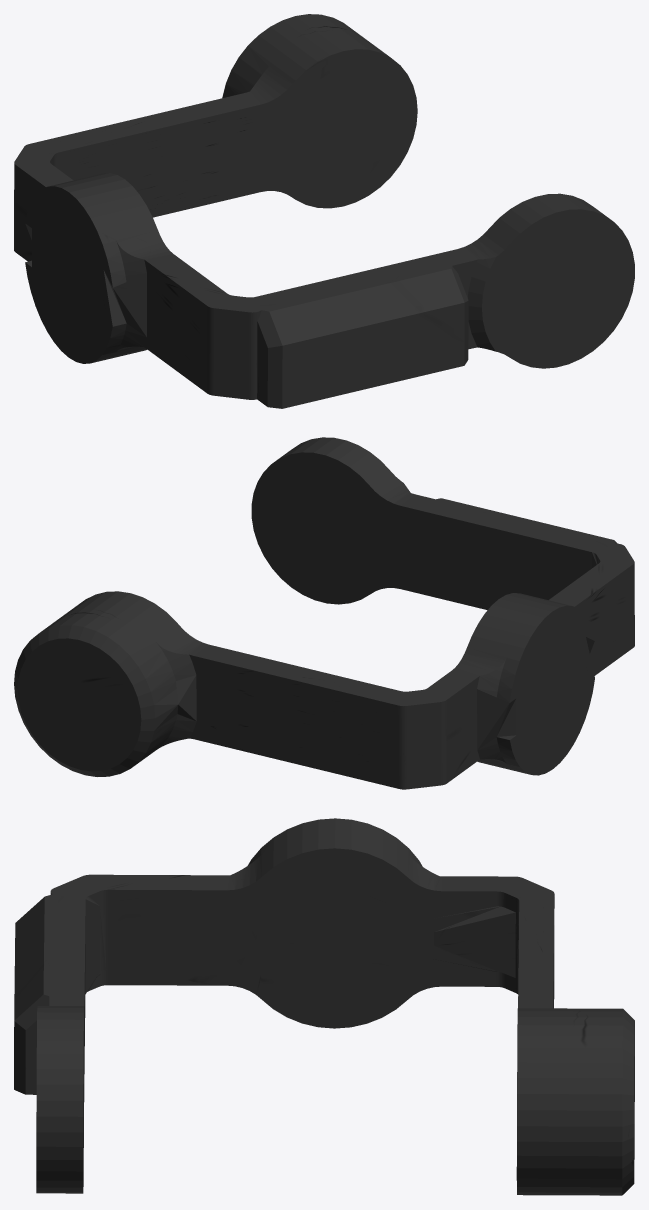
The model's file is gimbal_roll.dae.
3 views of the same model, one above another, from view 1: azimuth 30°, elevation 25°; view 2: azimuth 150°, elevation 25°; view 3: azimuth 270°, elevation 25° (orthographic). The views are drawn at different scales.
Visible parts, largest first — view 1: gimbal_parts - E02-023-102 GIMBAL ROLL-1.STL; view 2: gimbal_parts - E02-023-102 GIMBAL ROLL-1.STL; view 3: gimbal_parts - E02-023-102 GIMBAL ROLL-1.STL.
Part boxes in pixels (x1=…): gimbal_parts - E02-023-102 GIMBAL ROLL-1.STL: x1=14, y1=14, x2=634, y2=408; gimbal_parts - E02-023-102 GIMBAL ROLL-1.STL: x1=14, y1=437, x2=634, y2=789; gimbal_parts - E02-023-102 GIMBAL ROLL-1.STL: x1=14, y1=818, x2=634, y2=1195.
Size of the model in its own units: 0.0934 by 0.106 by 0.0341.
Materials: 1 (1 with a texture image).
